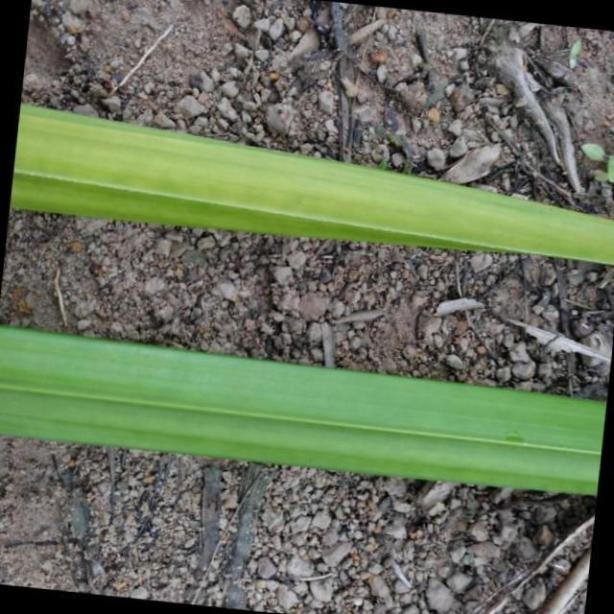nitrogen: (3, 327, 614, 493), (11, 104, 614, 267)
